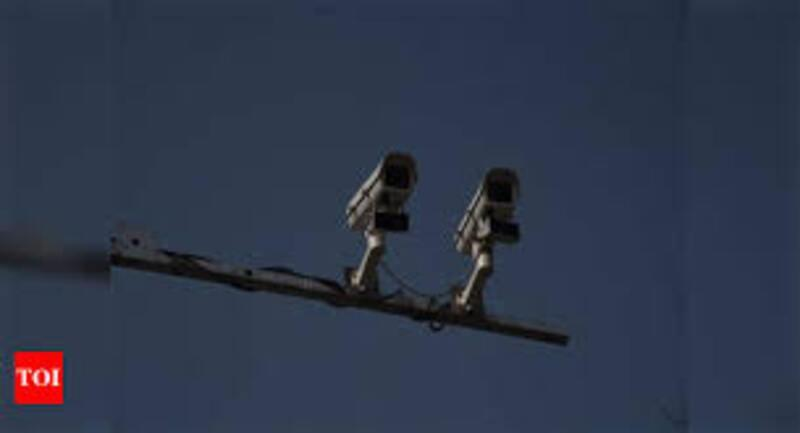box: (342, 151, 426, 241), (456, 161, 528, 256)
